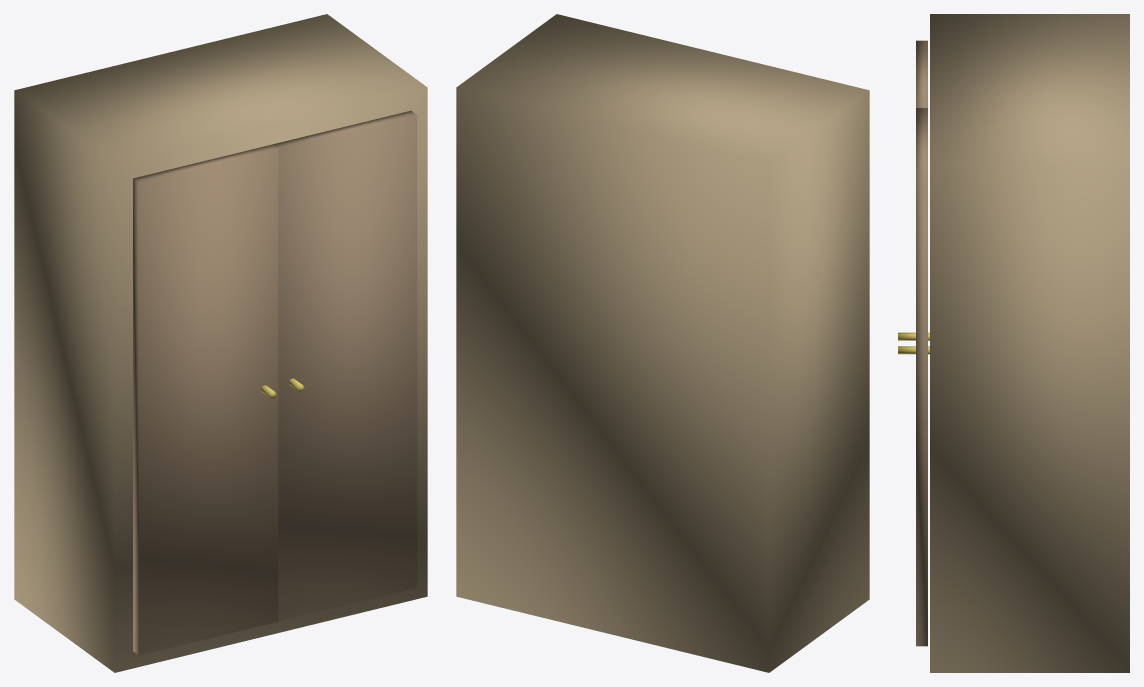
The model's file is furn_cabinet.glb.
The picture shows the model from 3 angles, left to right: view 1: azimuth 30°, elevation 25°; view 2: azimuth 150°, elevation 25°; view 3: azimuth 270°, elevation 25°; orthographic projection.
Parts seen in each view (by area): view 1: body, door_-0.2, door_0.2; view 2: body; view 3: body, door_0.2, door_-0.2.
Boxes of the visible parts, <box> form: body: <box>14,14,427,672</box>; door_-0.2: <box>133,144,278,655</box>; door_0.2: <box>272,110,417,621</box>; body: <box>456,14,869,672</box>; body: <box>930,14,1129,672</box>; door_0.2: <box>916,108,927,646</box>; door_-0.2: <box>916,40,927,107</box>.
Bounding box in the file's own units: 0.9 × 1.4 × 0.58.
